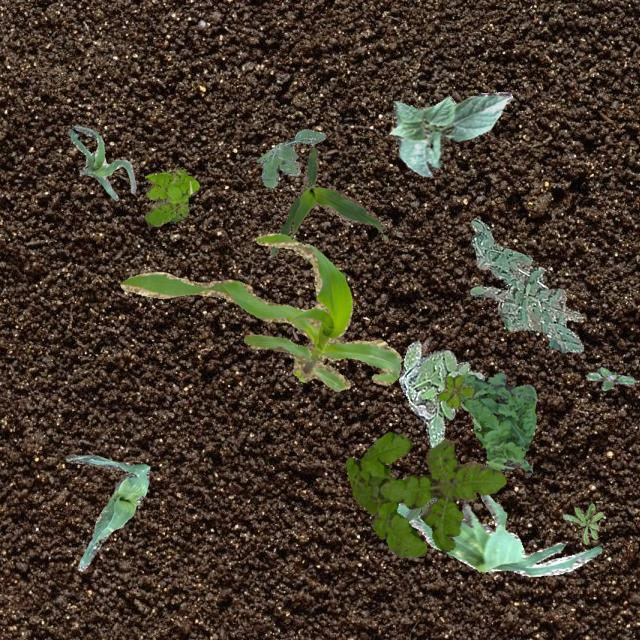crop: (120, 232, 400, 390), (396, 494, 600, 576), (268, 146, 386, 256), (388, 91, 512, 176), (64, 454, 148, 570), (66, 123, 134, 200)
weed: (344, 431, 506, 556), (470, 218, 582, 352), (398, 338, 484, 446), (460, 372, 536, 474), (254, 128, 324, 186), (144, 168, 198, 226), (562, 502, 602, 544), (436, 373, 472, 408), (584, 366, 634, 390), (404, 494, 434, 520)
